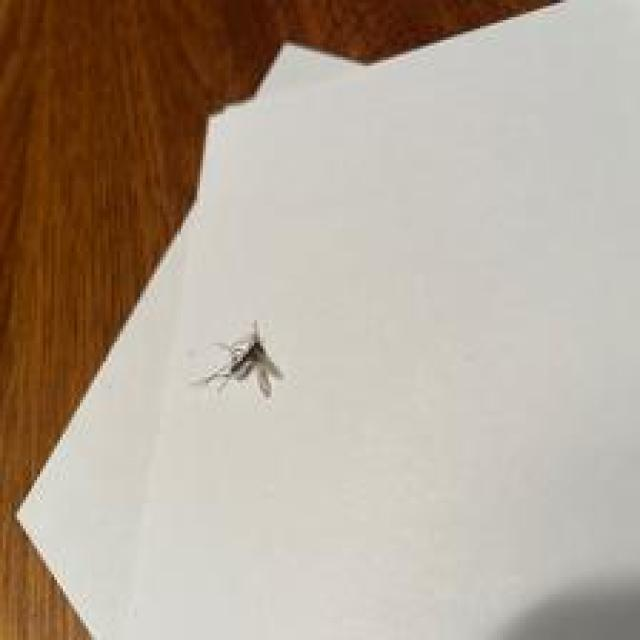Culex: (203, 318, 283, 398)
